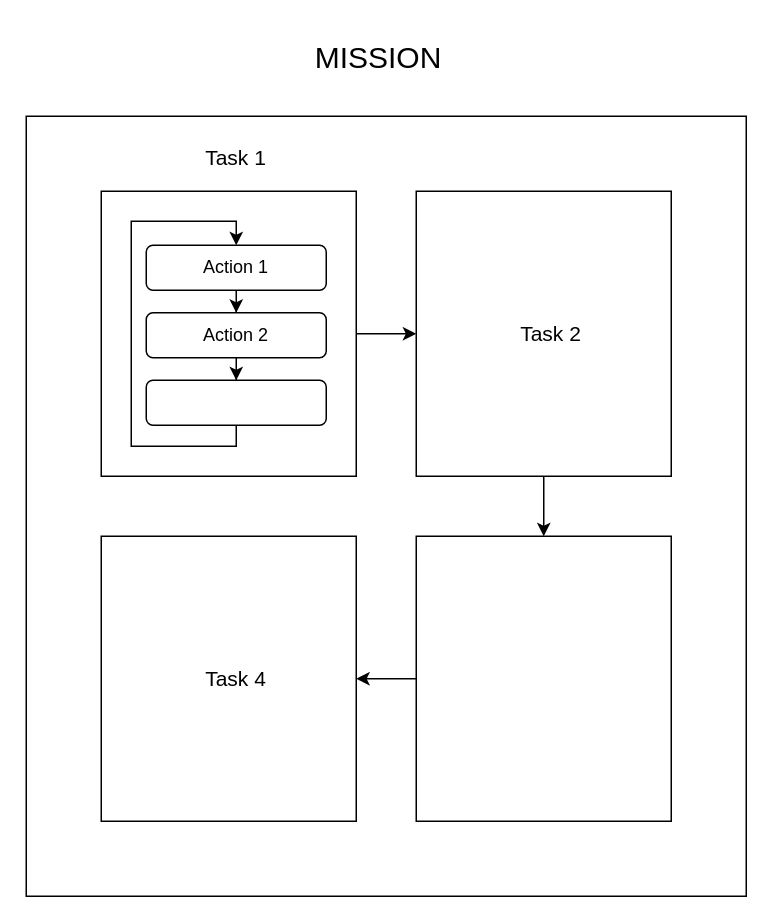
The diagram is 773 pixels wide and 923 high, and some of its shapes have lost their labels. The box of each missing label's shape, as (x1, y1, x2, y2) in pixels:
Action 3: (145, 379, 326, 425)
Task 3: (415, 535, 671, 821)
